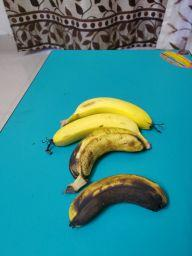banana: (66, 172, 170, 231), (64, 124, 147, 196), (43, 111, 151, 156), (58, 95, 166, 137)
